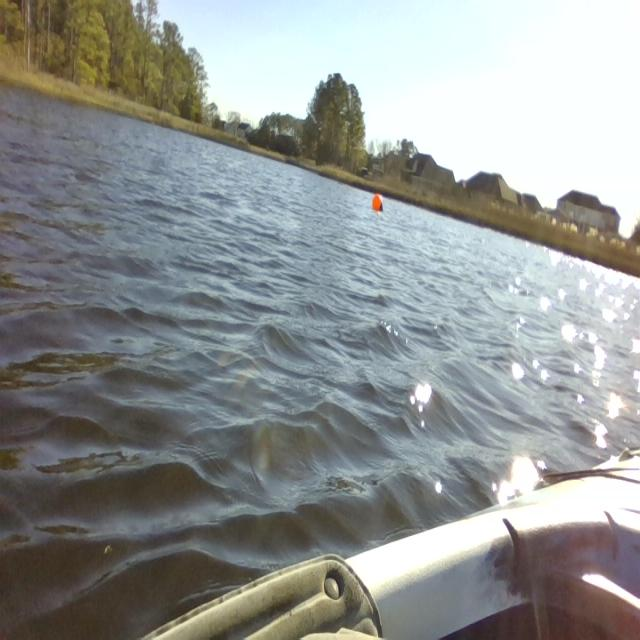Buoy: (367, 187, 389, 220)
